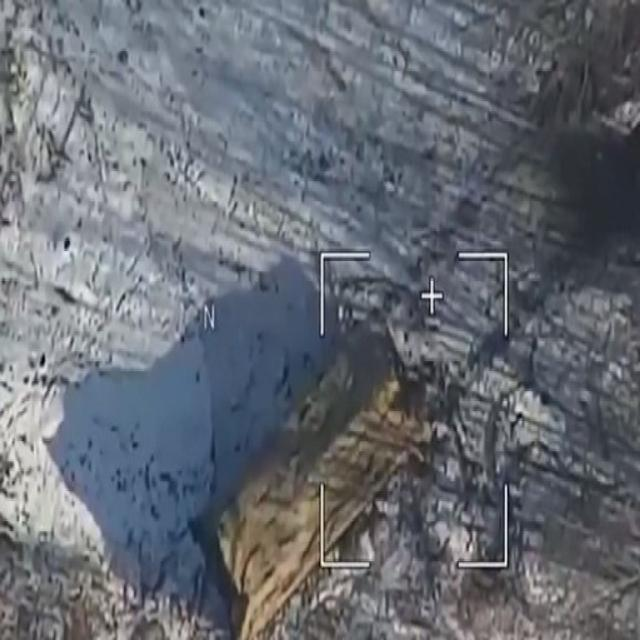ART: (186, 300, 428, 638)
